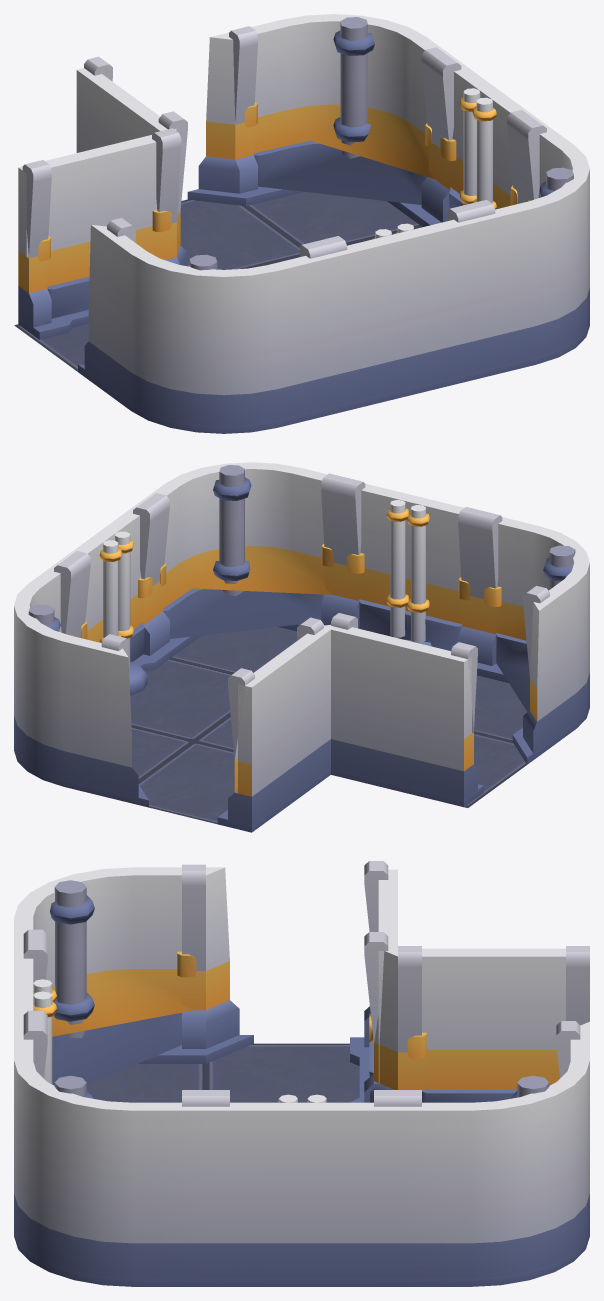
Rendered from kenney-space-modular-room-corner.glb.
3 renders of one model, top to bottom at view 1: azimuth 30°, elevation 25°; view 2: azimuth 150°, elevation 25°; view 3: azimuth 270°, elevation 25°, orthographic. The views are drawn at different scales.
Parts seen in each view (by area): view 1: room-corner; view 2: room-corner; view 3: room-corner.
Boxes of the visible parts, box(x1,y1,x2,y2) form: room-corner: box(14, 14, 589, 433); room-corner: box(14, 462, 589, 832); room-corner: box(14, 861, 589, 1286).
Bounding box in the file's own units: 12 × 4.25 × 12.
1 material, 1 textured.
